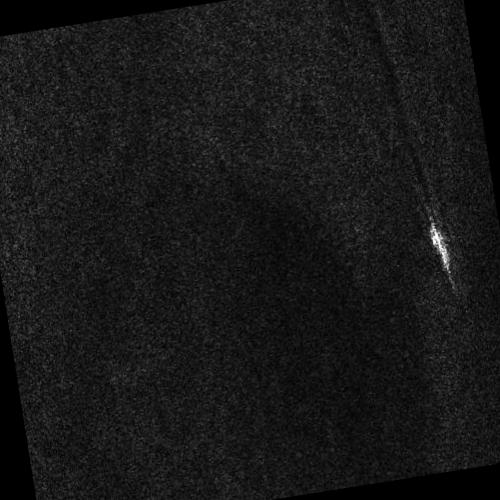ship: (431, 221, 450, 273)
